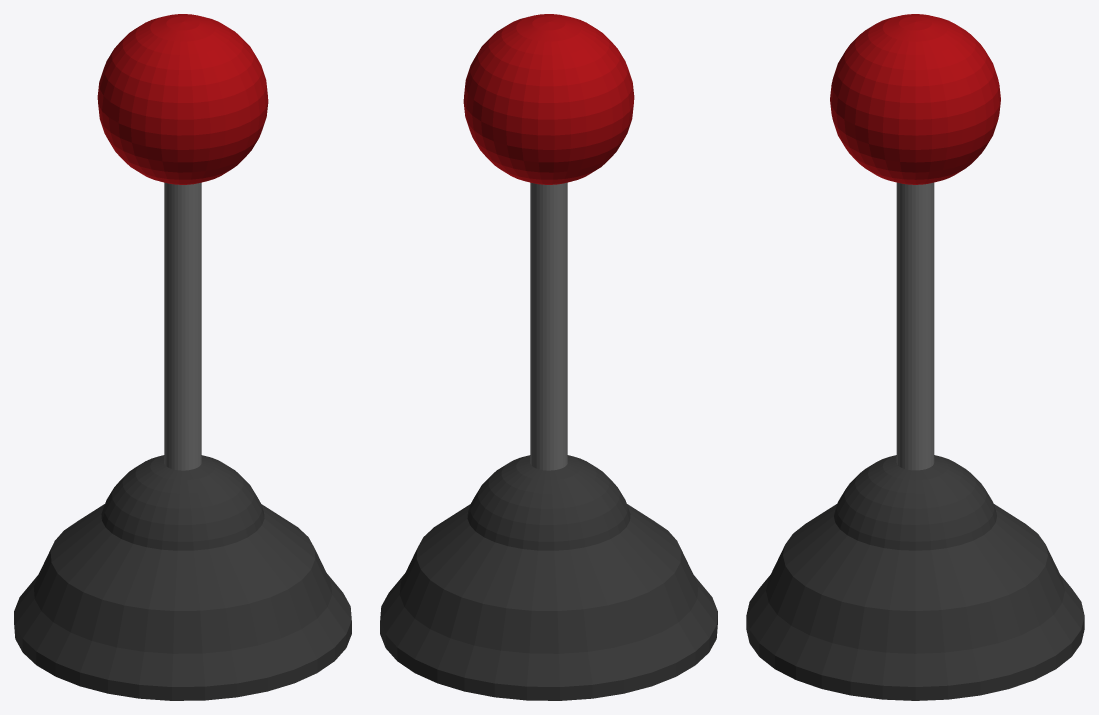
The model's file is 2AxisLever.fbx.
The picture shows the model from 3 angles, left to right: view 1: azimuth 30°, elevation 25°; view 2: azimuth 150°, elevation 25°; view 3: azimuth 270°, elevation 25°; orthographic projection.
Visible parts, largest first — view 1: Base, Lever, Sphere; view 2: Base, Lever, Sphere; view 3: Base, Lever, Sphere.
Part boxes in pixels (x1=…): Base: x1=14, y1=504, x2=351, y2=700; Lever: x1=97, y1=14, x2=268, y2=470; Sphere: x1=101, y1=455, x2=264, y2=550; Base: x1=380, y1=504, x2=717, y2=700; Lever: x1=463, y1=14, x2=634, y2=470; Sphere: x1=467, y1=455, x2=630, y2=550; Base: x1=746, y1=504, x2=1084, y2=700; Lever: x1=830, y1=14, x2=1000, y2=470; Sphere: x1=834, y1=455, x2=996, y2=550.
Bounding box in the file's own units: 395 × 784 × 395.
